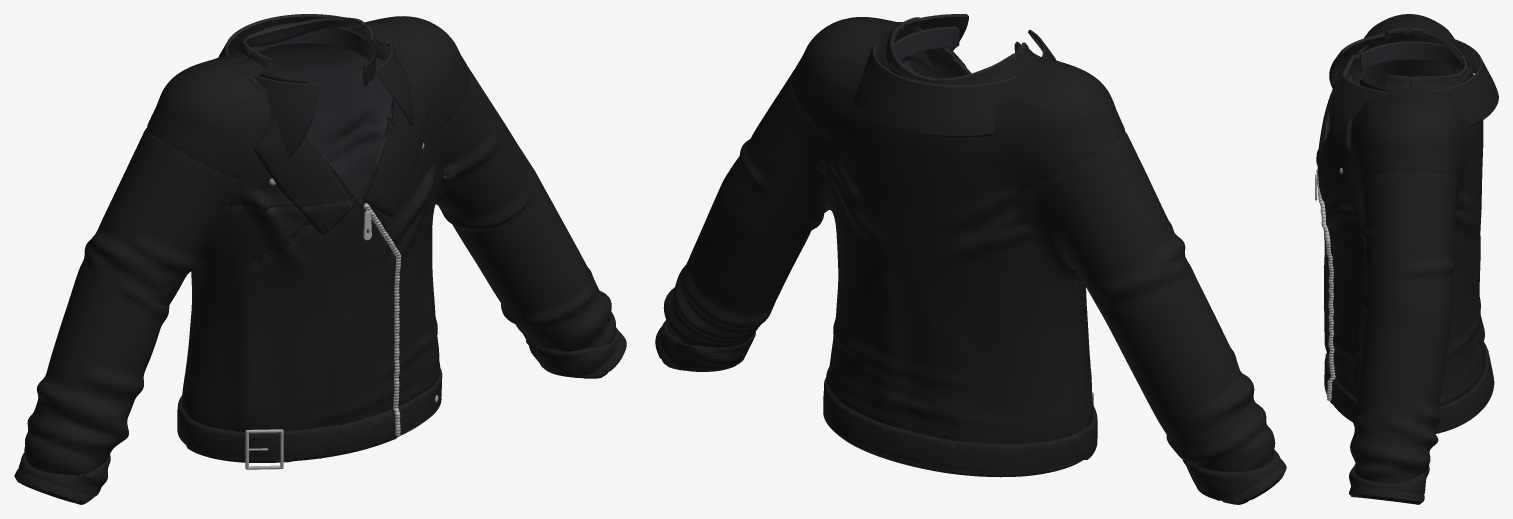
The model's file is 05_chaqueta_biker_pbr.glb.
3 renders of one model, left to right at view 1: azimuth 30°, elevation 25°; view 2: azimuth 150°, elevation 25°; view 3: azimuth 270°, elevation 25°, orthographic. The views are drawn at different scales.
Visible parts, largest first — view 1: Camiseta PBR, Cremallera, Punteras y ojales; view 2: Camiseta PBR; view 3: Camiseta PBR, Cremallera.
Part boxes in pixels (<box>): Camiseta PBR: <box>14,14,626,504</box>; Cremallera: <box>363,203,401,435</box>; Punteras y ojales: <box>245,142,438,469</box>; Camiseta PBR: <box>655,14,1286,504</box>; Camiseta PBR: <box>1316,14,1498,504</box>; Cremallera: <box>1315,169,1335,400</box>.
Bounding box in the file's own units: 1.03 × 0.634 × 0.3135.
Materials: 3 (1 with a texture image).
